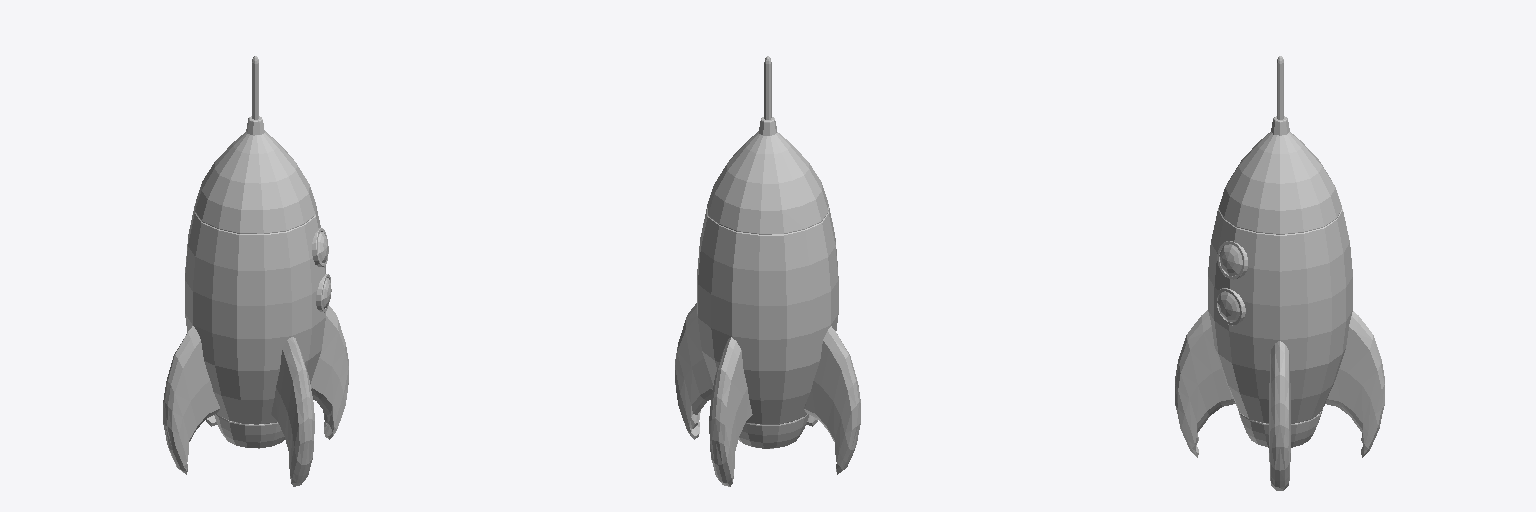
The model's file is ToyRocket.obj.
The picture shows the model from 3 angles: view 1: azimuth 30°, elevation 25°; view 2: azimuth 150°, elevation 25°; view 3: azimuth 270°, elevation 25°; orthographic projection.
Parts seen in each view (by area): view 1: ToyRocket; view 2: ToyRocket; view 3: ToyRocket.
Boxes of the visible parts, x1,y1,x2,y2 form: ToyRocket: [163, 56, 348, 486]; ToyRocket: [675, 56, 860, 486]; ToyRocket: [1175, 56, 1384, 490].
Bounding box in the file's own units: 3.73 × 7.83 × 3.73.